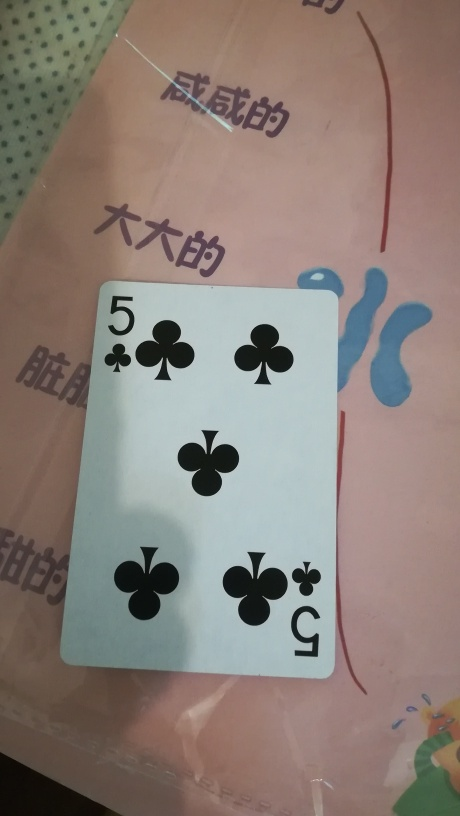mh 5: (64, 280, 339, 678)
